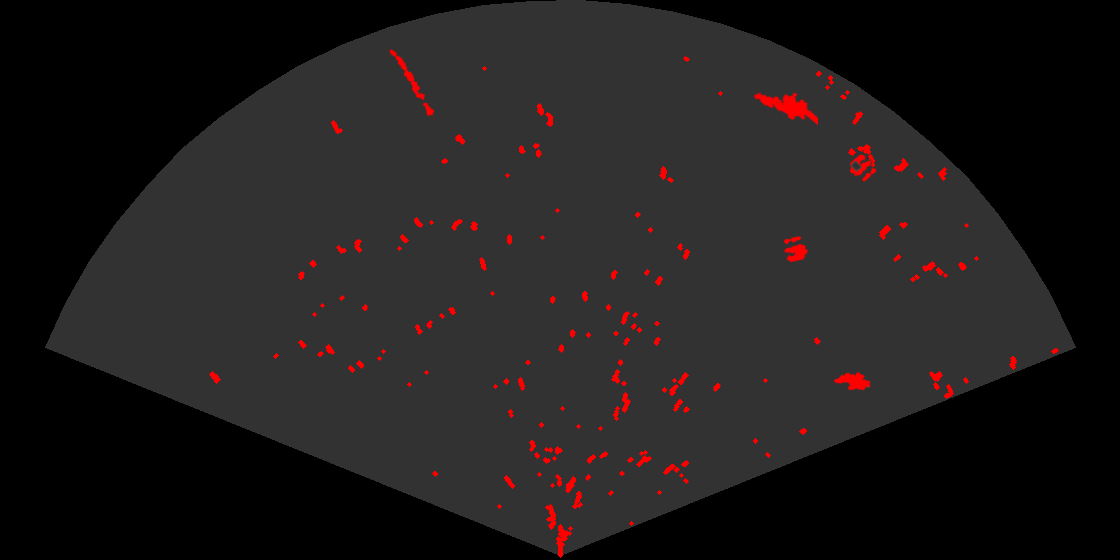AUV: (832, 370, 873, 392)
ball: (848, 153, 878, 183), (782, 235, 809, 264)
chain: (388, 48, 438, 121)
frogman: (752, 91, 818, 127)
